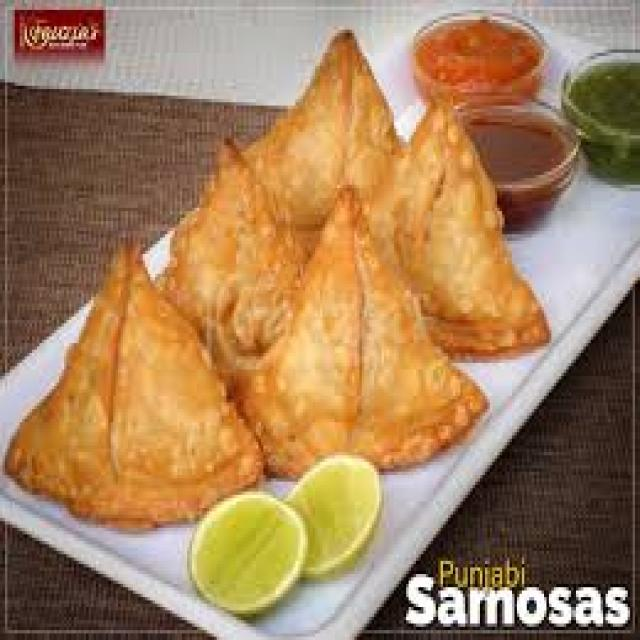SAMOSA: (7, 247, 261, 525), (239, 191, 485, 472), (367, 106, 544, 350), (165, 142, 313, 376), (244, 30, 396, 234)
